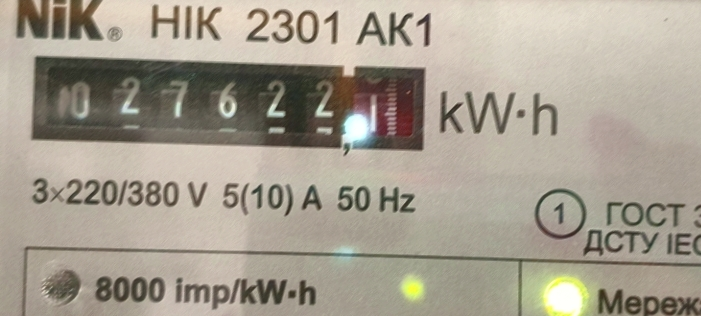0: (68, 77, 94, 120)
1: (365, 90, 383, 134)
2: (264, 76, 290, 119), (119, 73, 144, 117), (314, 76, 338, 119)
6: (217, 78, 240, 119)
7: (167, 77, 192, 121)
screen: (20, 41, 441, 163)
